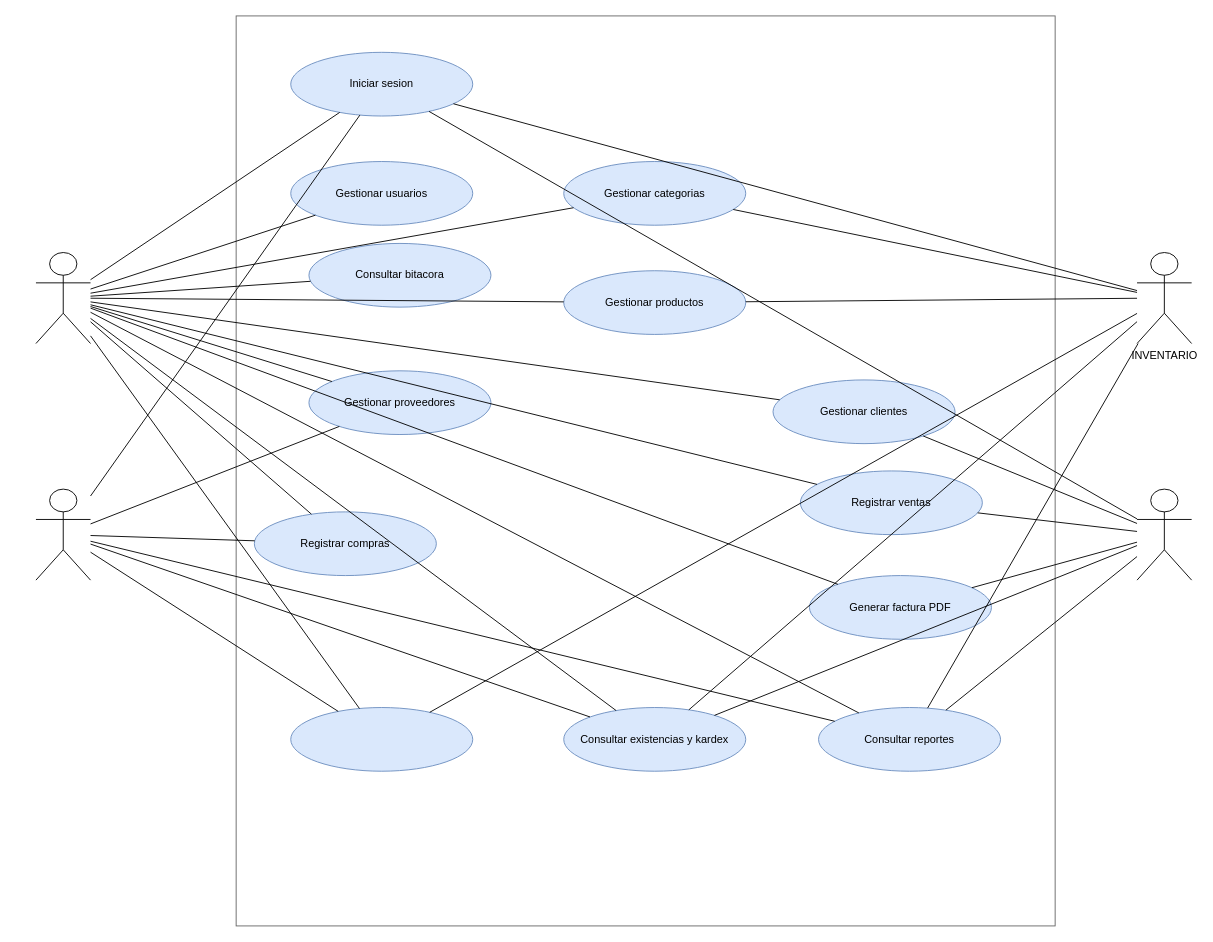
Image size: 1213x942. Some labels were removed from this diagram. The centre of each missing label's shape, as x and y in pixels:
"ADMINISTRACION" belongs at [63,298].
"COMPRAS" belongs at [63,534].
"Consultar alertas de stock" belongs at [381,739].
"VENTAS" belongs at [1164,534].
